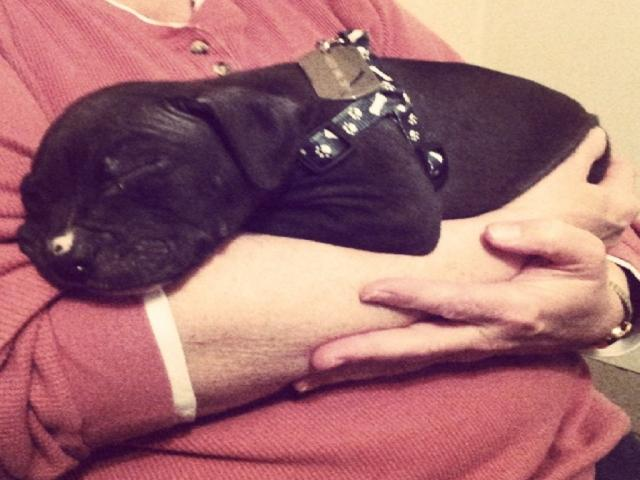Dog: (16, 54, 615, 297)
